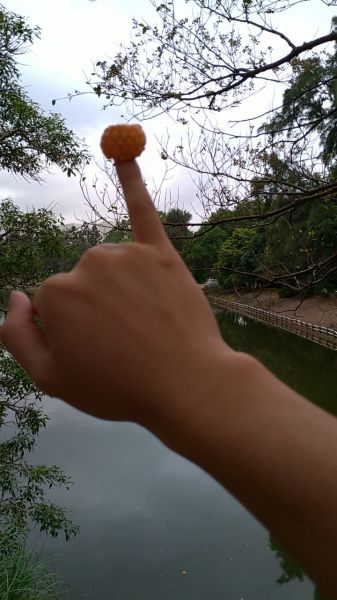eggs: (99, 124, 148, 161)
